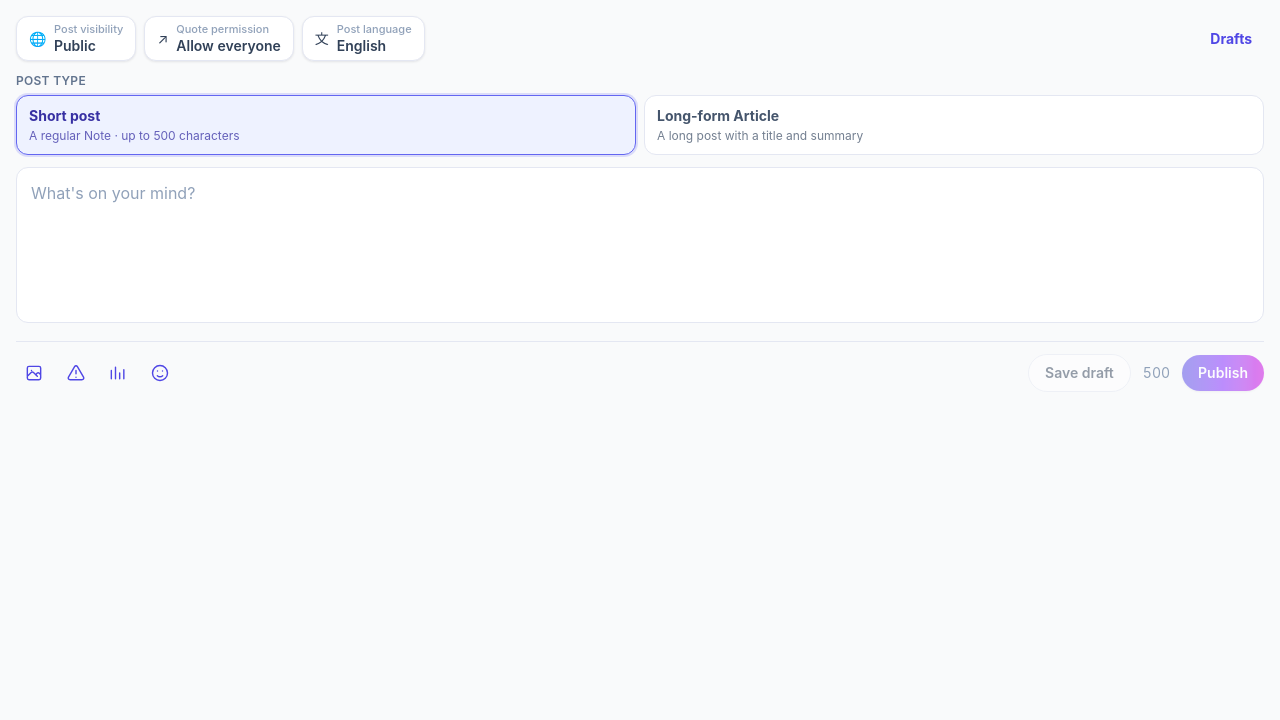
Test case: StatusComposer Article selector › shows an explicit post type selector and reveals Article fields
Expected: the button named "Toggle content warning" is shown, [58,355,94,391]
Expected: the button named "Add poll" is shown, [100,355,136,391]
Click the radio button with test id "compose-type-article". click: click(718, 116)
box: [644,95,1264,155]
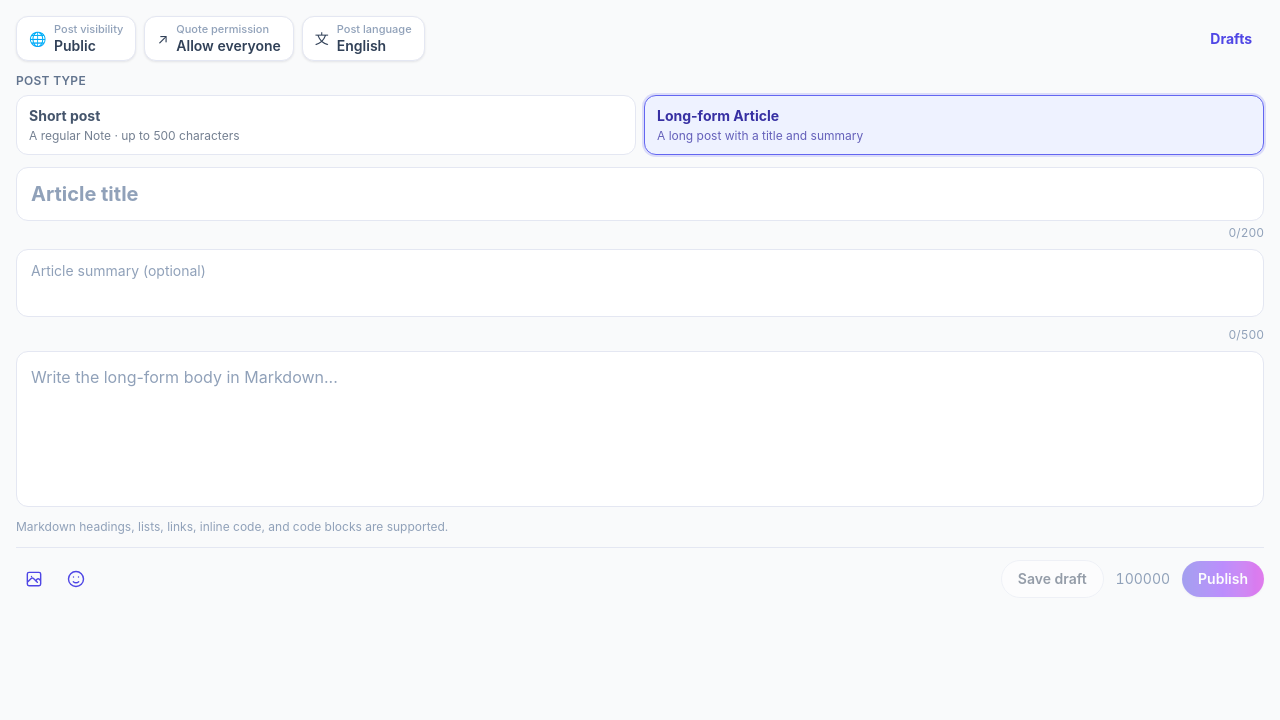
Expected: the field with placeholder "Article title" is shown, [16,167,1264,221]
Expected: the text box with placeholder "Article summary (optional)" is shown, [16,249,1264,317]
Expected: the text "Markdown headings" is shown, [16,519,448,534]
